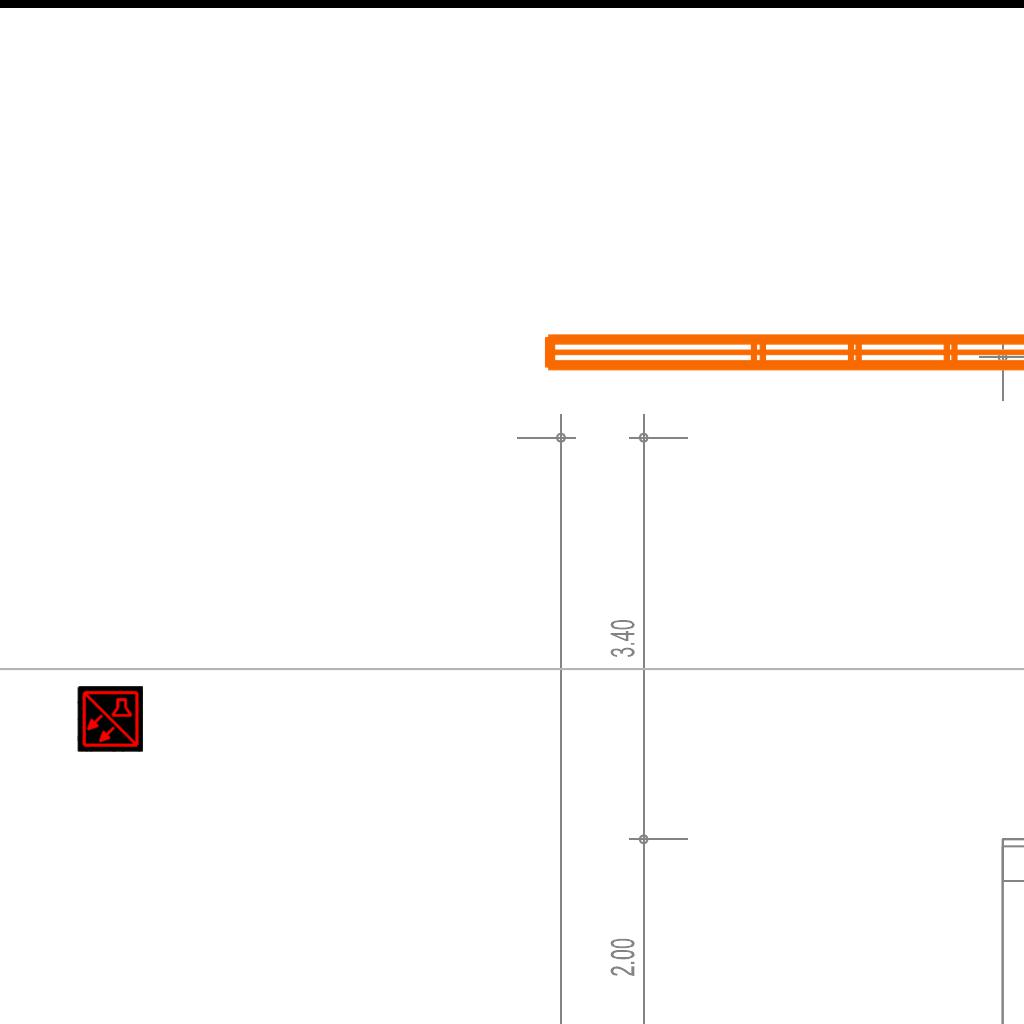Ambulanz_Pendelleuchte_LED: (534, 271, 1024, 383)
OKW_Multisensormelder_(Kombination_optischer_Rauch-Kahlenmonoxid_Waerme-Melder): (77, 686, 143, 752)
